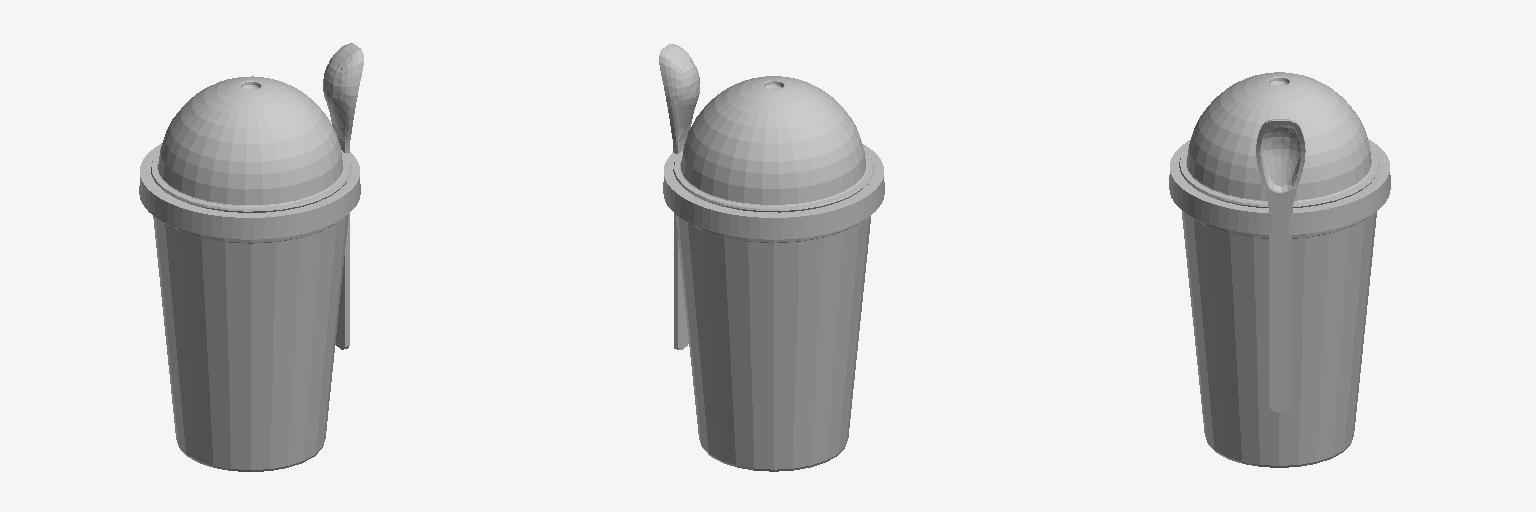
File: bot2.obj
3 renders of one model, left to right at view 1: azimuth 30°, elevation 25°; view 2: azimuth 150°, elevation 25°; view 3: azimuth 270°, elevation 25°, orthographic.
Parts seen in each view (by area): view 1: vase, top, spoon; view 2: vase, top, spoon; view 3: vase, top, spoon.
Part boxes in pixels (x1,y1,x2,y2): vase: (139, 143, 360, 471); top: (151, 76, 350, 212); spoon: (323, 43, 363, 349); vase: (663, 144, 884, 471); top: (673, 76, 873, 212); spoon: (659, 44, 699, 349); vase: (1169, 139, 1390, 467); top: (1179, 72, 1379, 207); spoon: (1256, 119, 1305, 411).
Bounding box in the file's own units: 0.0964 × 0.1671 × 0.0907.